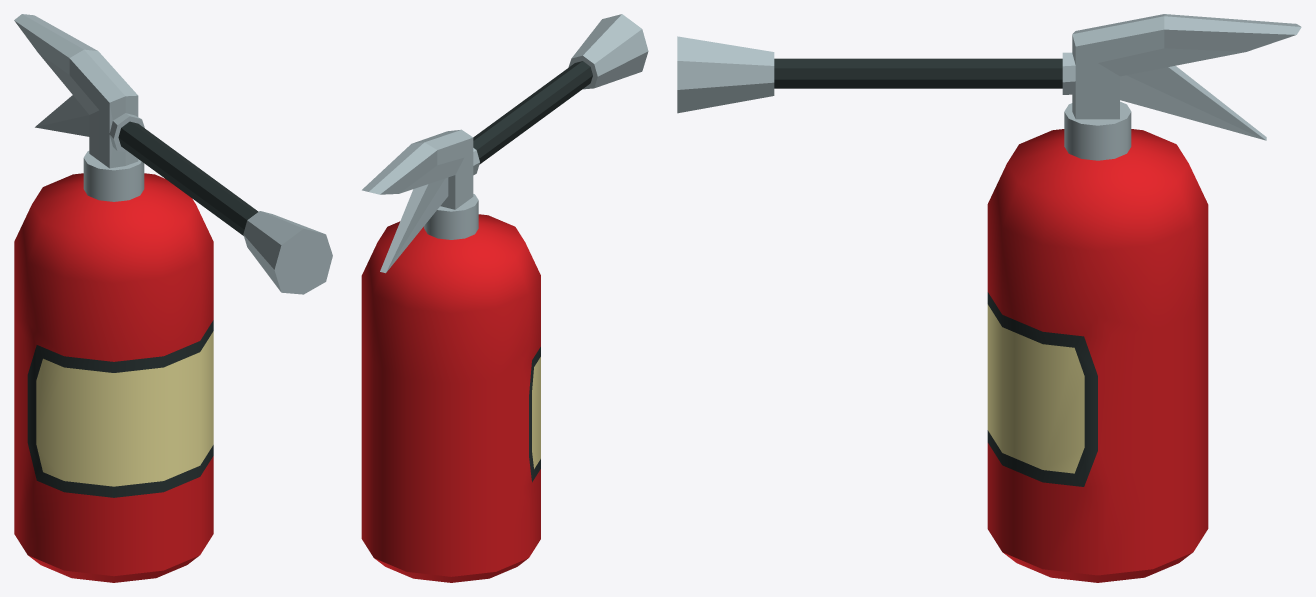
Rendered from fire_extinguisher.fbx.
3 views of the same model, side by side, from view 1: azimuth 30°, elevation 25°; view 2: azimuth 150°, elevation 25°; view 3: azimuth 270°, elevation 25° (orthographic). The views are drawn at different scales.
Visible parts, largest first — view 1: fire_extinguisher; view 2: fire_extinguisher; view 3: fire_extinguisher.
Boxes of the visible parts, <box> form: fire_extinguisher: <box>14,14,332,582</box>; fire_extinguisher: <box>361,14,648,582</box>; fire_extinguisher: <box>677,14,1301,582</box>.
Bounding box in the file's own units: 88.66 × 234 × 251.
